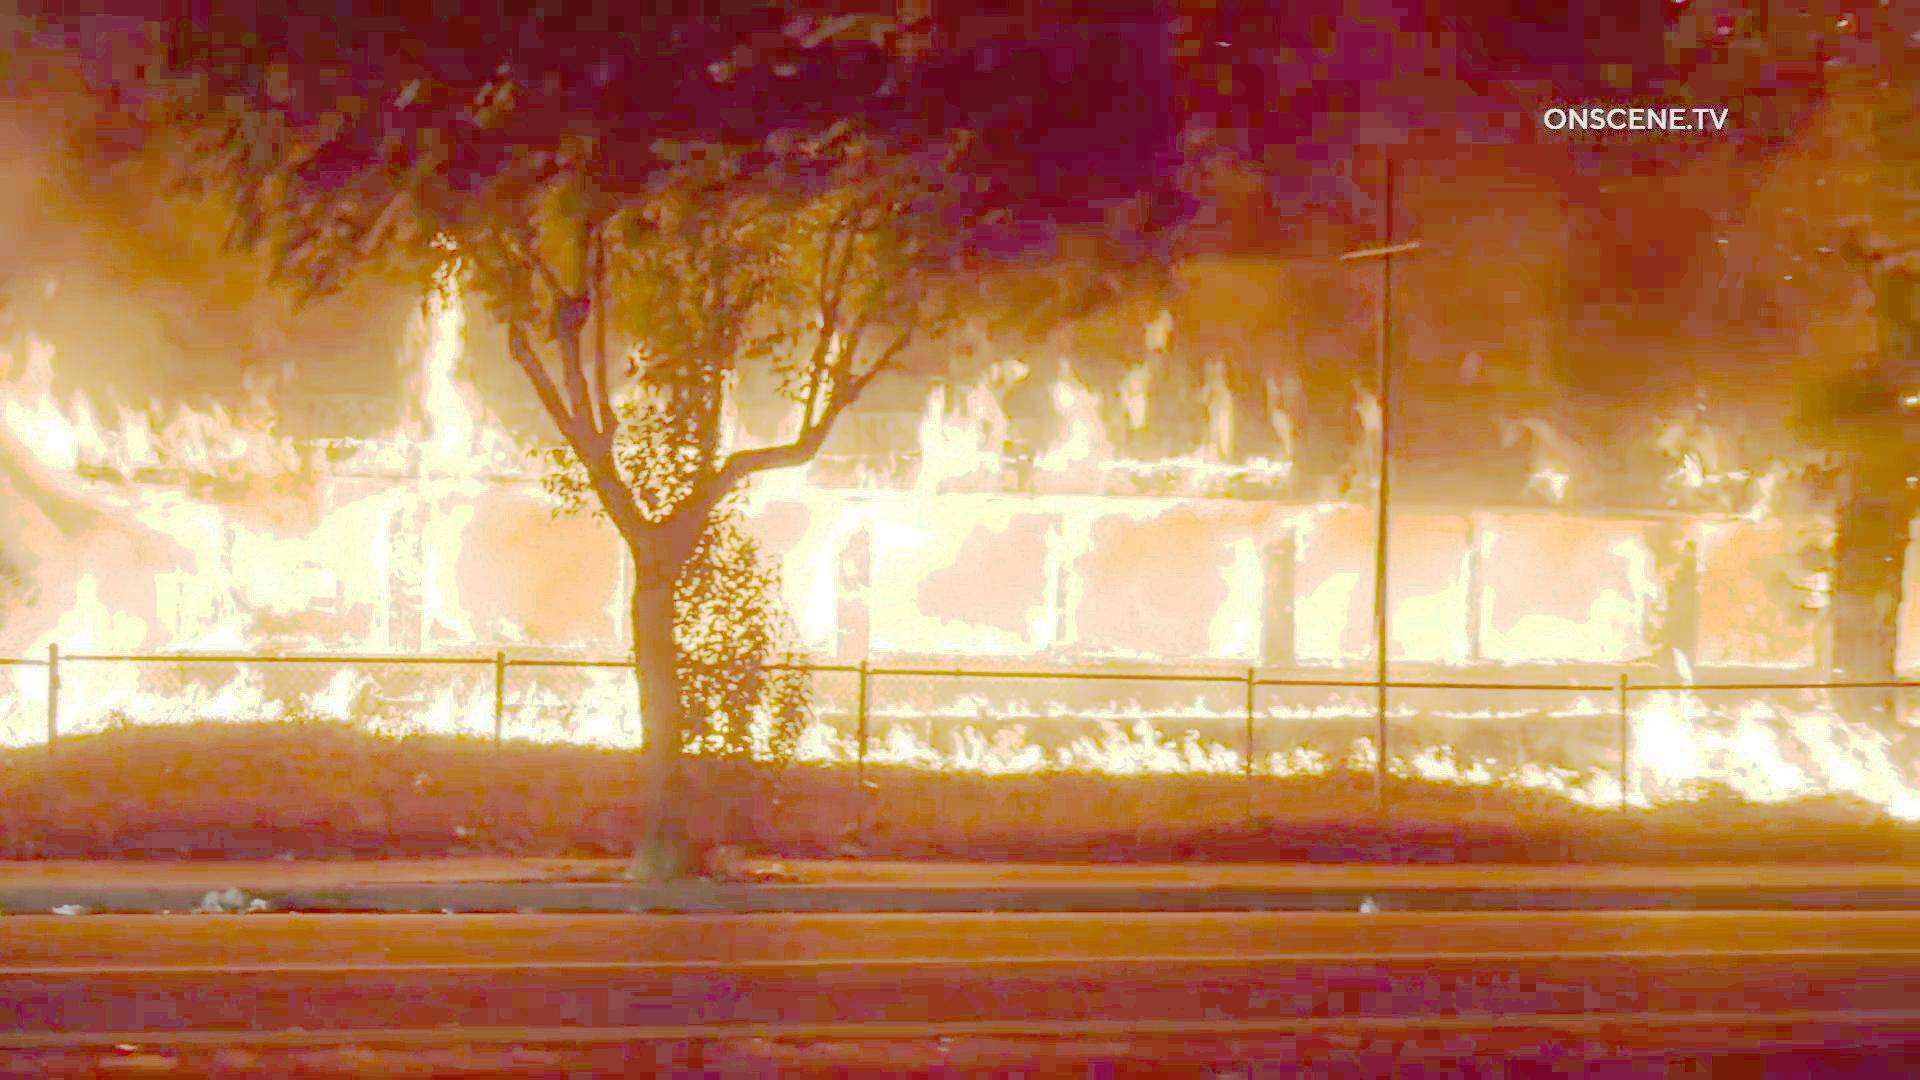fire: (0, 278, 477, 774), (825, 343, 1370, 661), (1375, 440, 1822, 680), (491, 413, 640, 753), (833, 673, 1250, 786), (1630, 658, 1920, 815)
